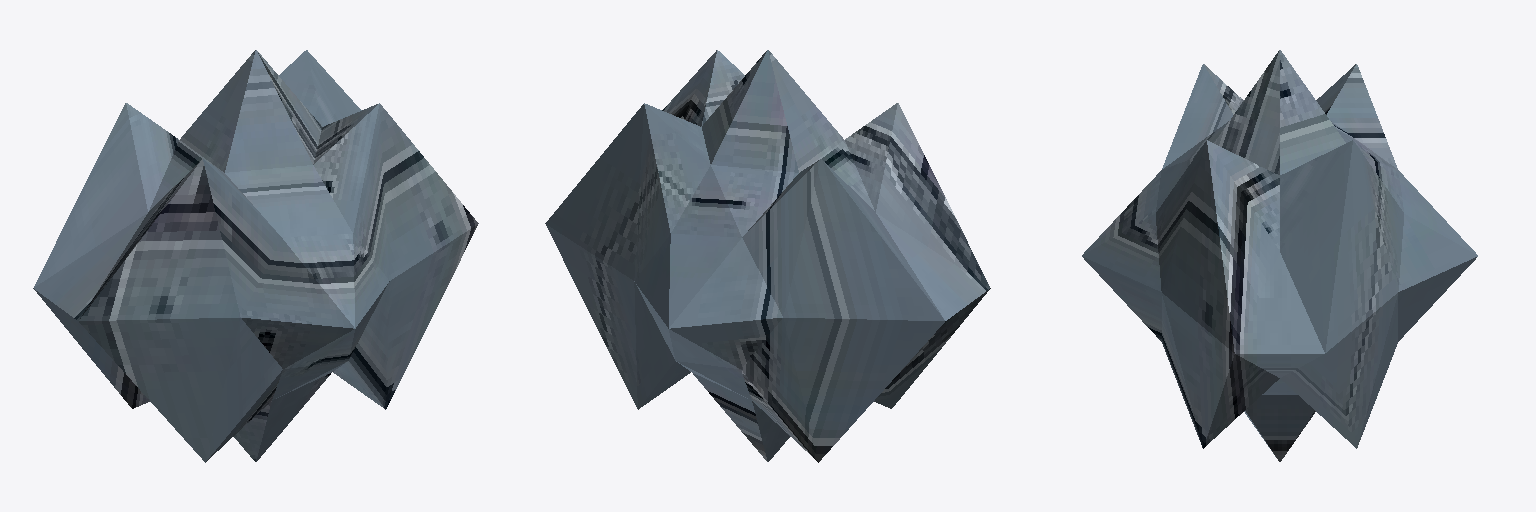
3 views of the same model, side by side, from view 1: azimuth 30°, elevation 25°; view 2: azimuth 150°, elevation 25°; view 3: azimuth 270°, elevation 25° (orthographic).
Parts seen in each view (by area): view 1: ICO球_ICO球.001; view 2: ICO球_ICO球.001; view 3: ICO球_ICO球.001.
Boxes of the visible parts, x1=… form: ICO球_ICO球.001: x1=33, y1=50, x2=478, y2=462; ICO球_ICO球.001: x1=545, y1=50, x2=990, y2=462; ICO球_ICO球.001: x1=1082, y1=50, x2=1477, y2=461.
Bounding box in the file's own units: 3.16 × 3.12 × 2.72.
1 materials, 1 textured.